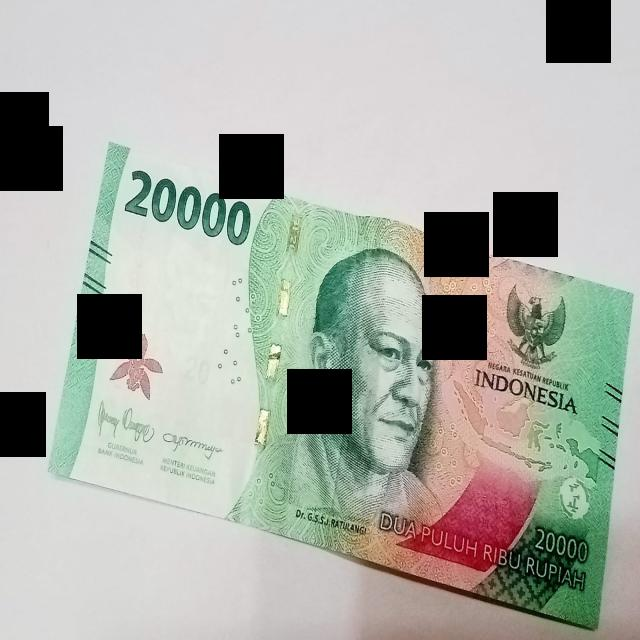dua puluh ribu rupiah: (50, 143, 632, 628)
